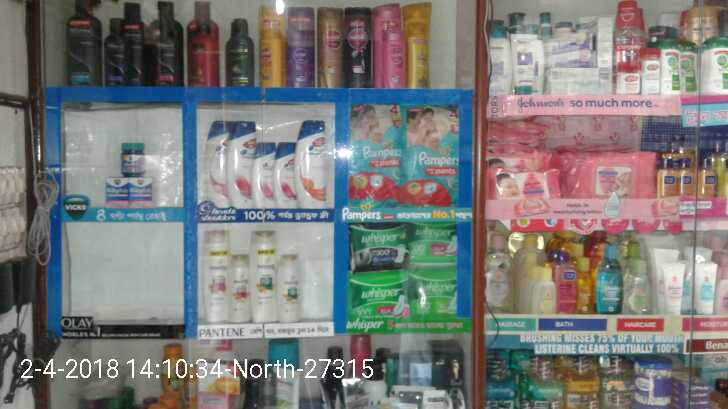vicks: (104, 139, 154, 209)
